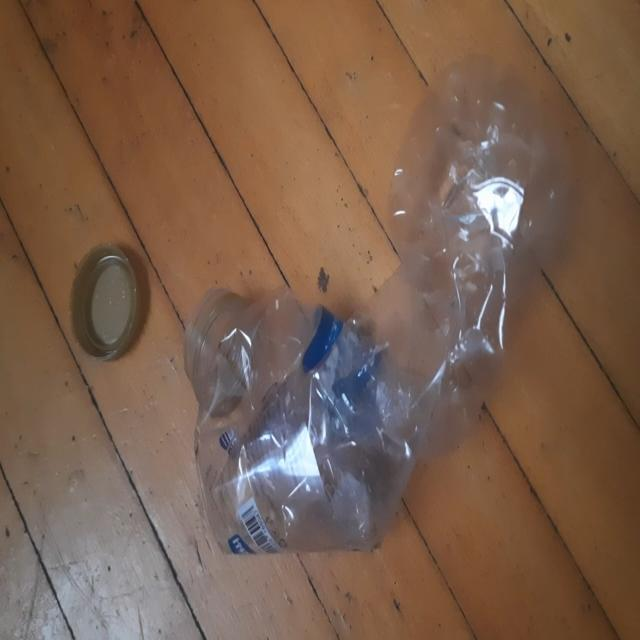Plastic: (184, 56, 558, 556), (70, 244, 150, 364)
